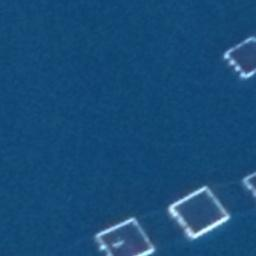square_solid: (162, 181, 233, 243), (91, 213, 159, 256), (221, 32, 256, 86), (239, 169, 256, 201)
